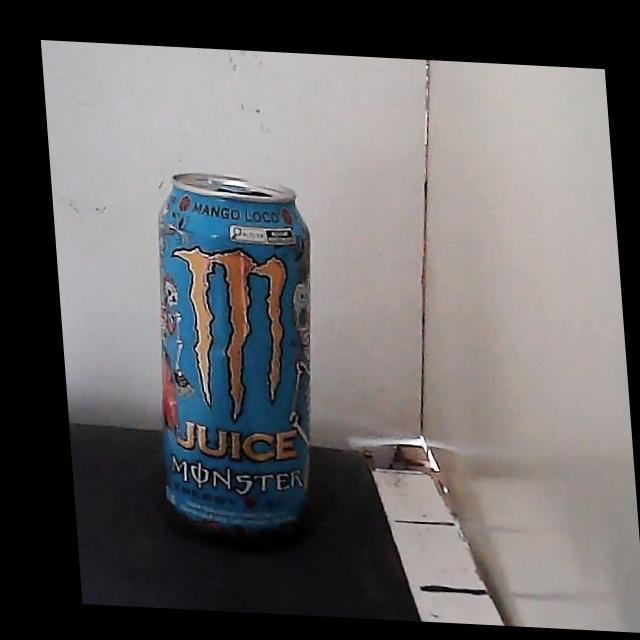metal: (159, 174, 310, 536)
